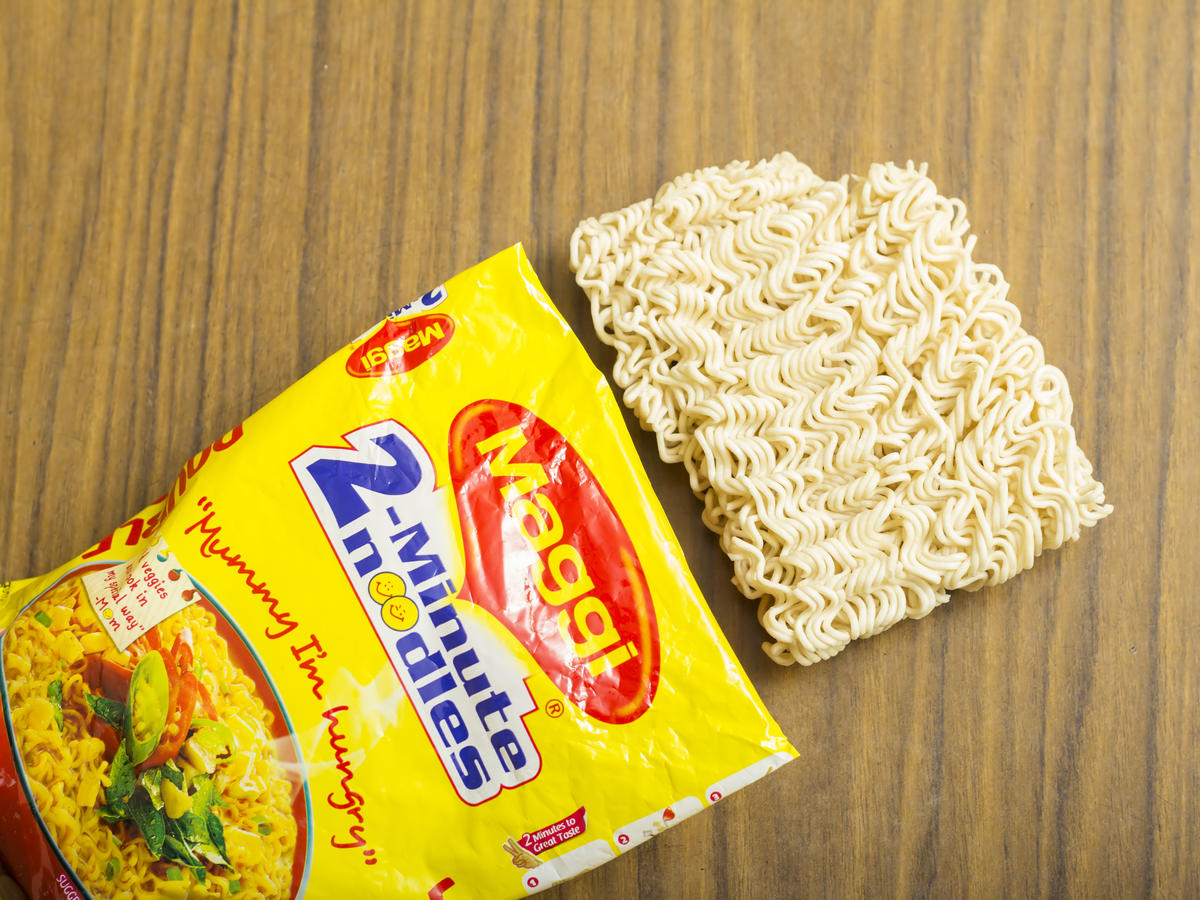maggie: (8, 243, 805, 899)
